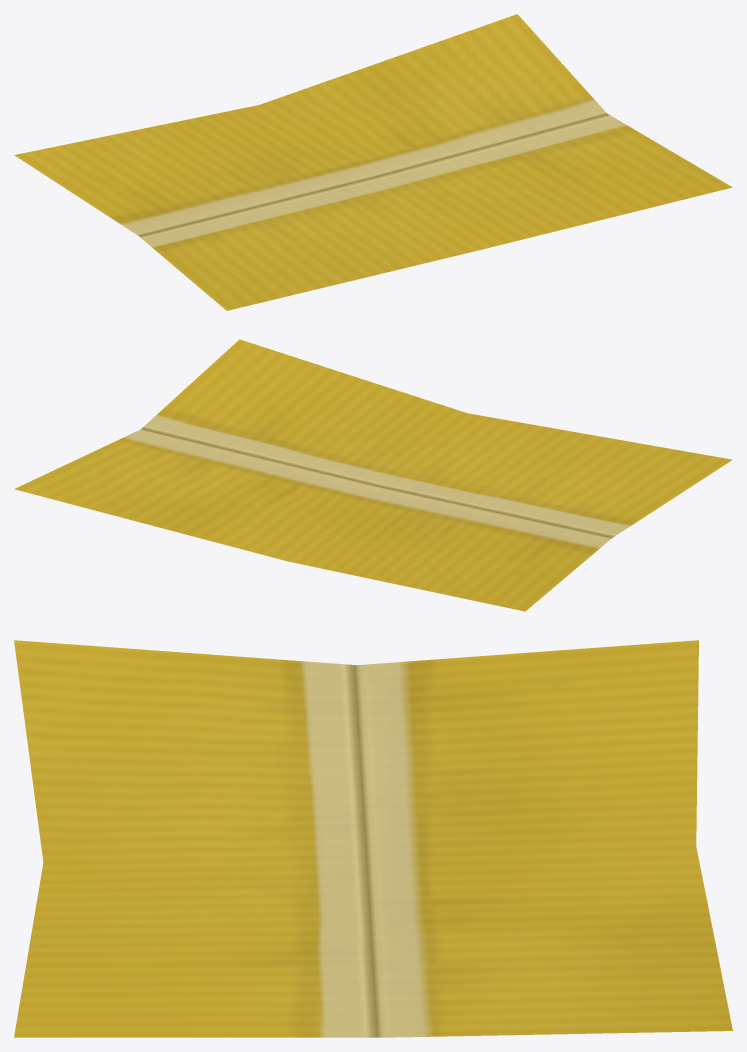
File: p_mesh_cucumberbox_part01.fbx
3 renders of one model, top to bottom at view 1: azimuth 30°, elevation 25°; view 2: azimuth 150°, elevation 25°; view 3: azimuth 270°, elevation 25°, orthographic. The views are drawn at different scales.
Visible parts, largest first — view 1: p_destruct_cardboard_cucmber_part01; view 2: p_destruct_cardboard_cucmber_part01; view 3: p_destruct_cardboard_cucmber_part01.
Part boxes in pixels (left/top/right/bottom): p_destruct_cardboard_cucmber_part01: left=14, top=14, right=732, bottom=310; p_destruct_cardboard_cucmber_part01: left=14, top=339, right=732, bottom=611; p_destruct_cardboard_cucmber_part01: left=14, top=640, right=732, bottom=1037.
Bounding box in the file's own units: 4.14 × 0.1368 × 3.12.
